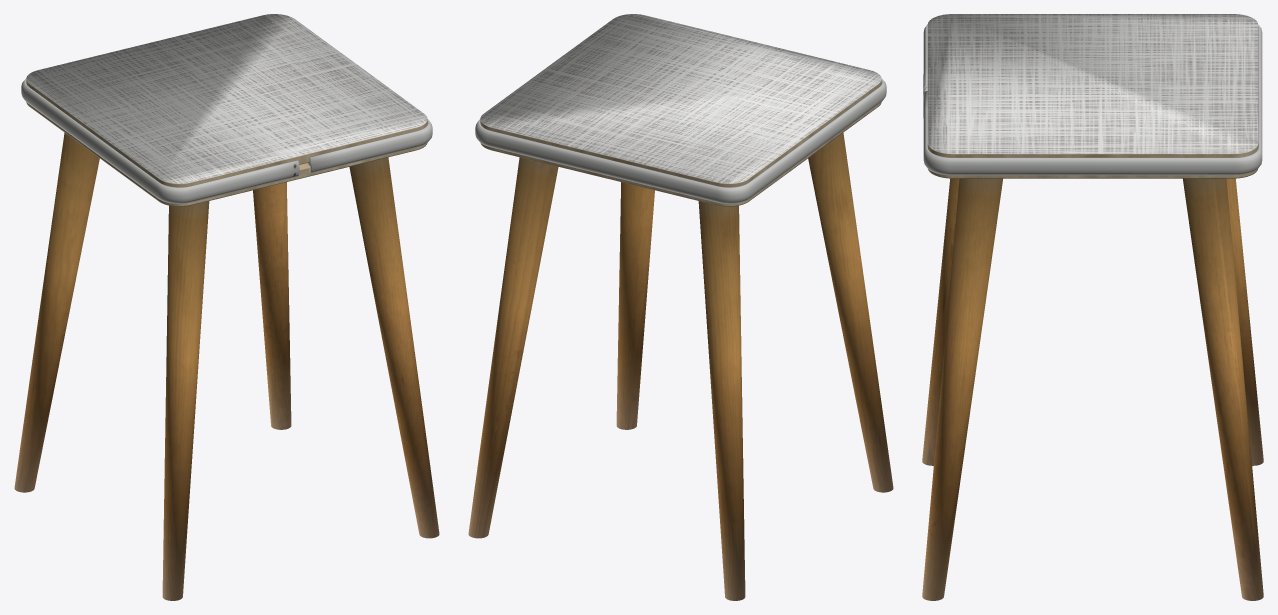
Rendered from Taburetka.obj.
3 views of the same model, side by side, from view 1: azimuth 30°, elevation 25°; view 2: azimuth 150°, elevation 25°; view 3: azimuth 270°, elevation 25° (orthographic). The views are drawn at different scales.
Parts seen in each view (by area): view 1: Taburetka; view 2: Taburetka; view 3: Taburetka.
Boxes of the visible parts, left/top/right/bottom form: Taburetka: left=14, top=14, right=439, bottom=600; Taburetka: left=468, top=14, right=893, bottom=600; Taburetka: left=922, top=14, right=1263, bottom=600.
Bounding box in the file's own units: 0.3101 × 0.4456 × 0.3101.
Materials: 5 (5 with a texture image).
